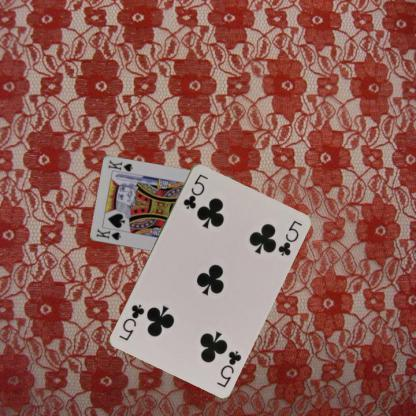5c: (180, 170, 209, 210), (214, 348, 243, 388)
Ks: (94, 226, 122, 242)
